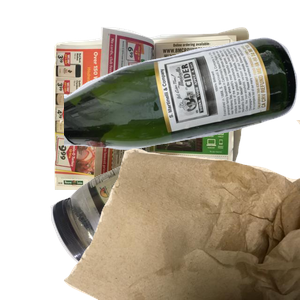glass: (64, 35, 300, 181)
paper: (51, 24, 291, 204)
plastic: (48, 152, 228, 300)
trash: (60, 120, 300, 300)
